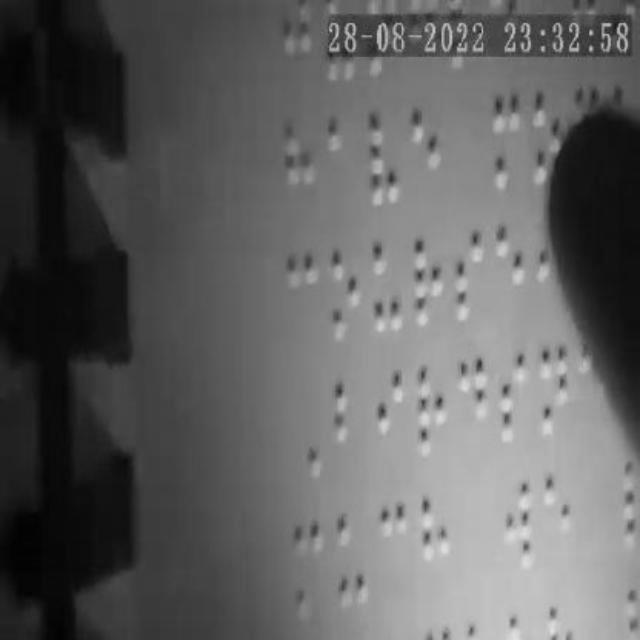braiile: (366, 110, 404, 214), (371, 369, 407, 473), (499, 476, 537, 574), (412, 364, 452, 456), (496, 349, 532, 447), (330, 380, 366, 478), (287, 516, 323, 614), (537, 342, 573, 440), (280, 248, 318, 340), (418, 498, 454, 594), (542, 475, 576, 575), (324, 118, 360, 212), (368, 242, 404, 336), (454, 358, 490, 452), (408, 106, 442, 204), (330, 514, 366, 606), (324, 251, 360, 341), (452, 233, 484, 329), (411, 235, 444, 328), (282, 123, 314, 213), (376, 503, 408, 592)
